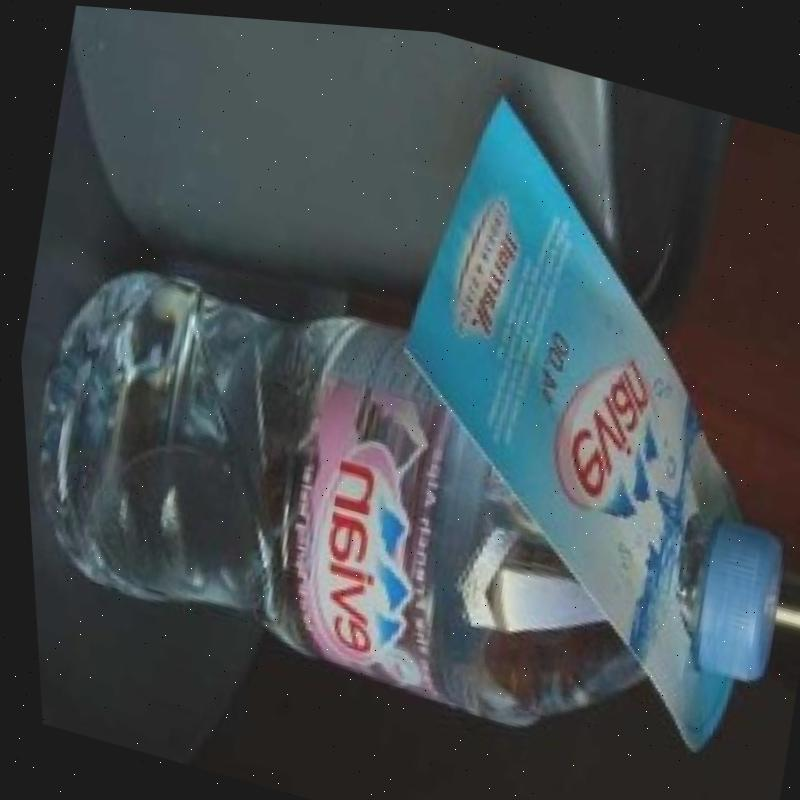botella: (11, 234, 800, 794)
